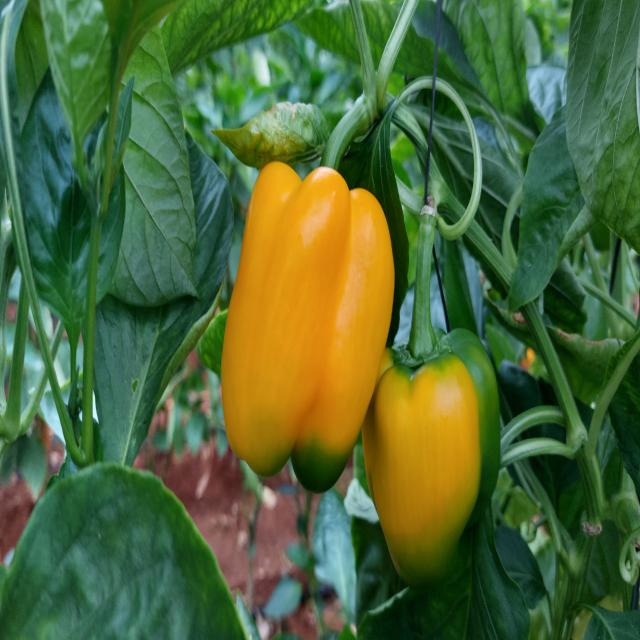Yellow-Ready-to-Harvest: (224, 162, 392, 476), (366, 354, 484, 551)
